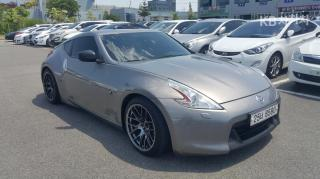0: (273, 105, 277, 114)
2: (253, 114, 257, 123)
5: (268, 108, 271, 117), (257, 113, 260, 121)
8: (265, 109, 268, 118), (271, 107, 274, 115)
너: (259, 112, 264, 119)
